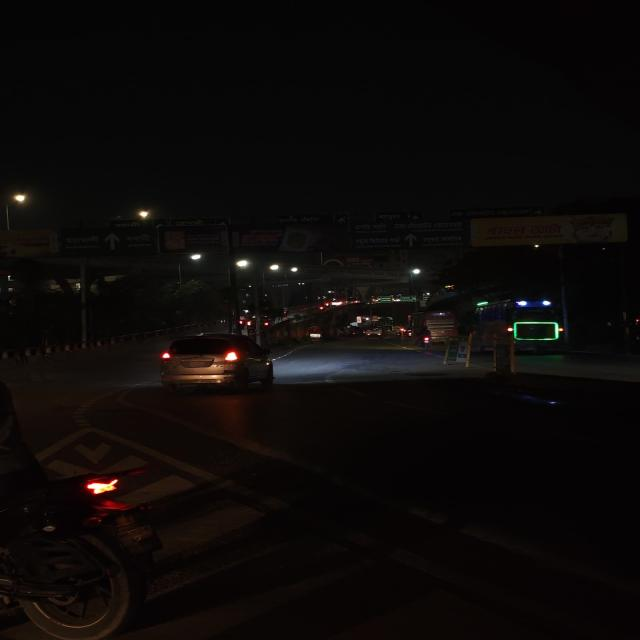bus: (473, 299, 560, 350), (406, 307, 461, 346)
car: (153, 330, 277, 394)
motorcycle: (416, 326, 436, 348)
rickshaw: (303, 326, 327, 344)
truck: (362, 324, 386, 340)
